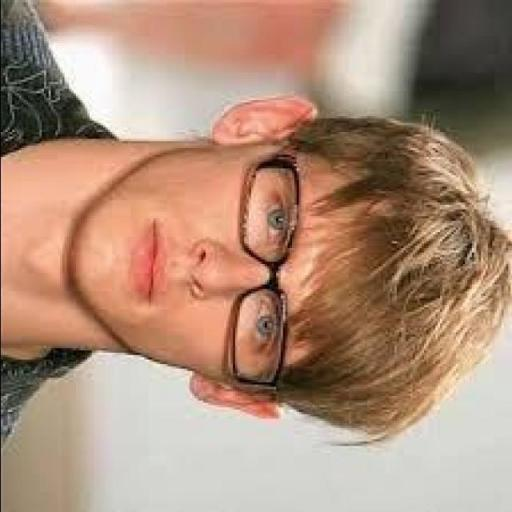glasses: (202, 140, 324, 406)
